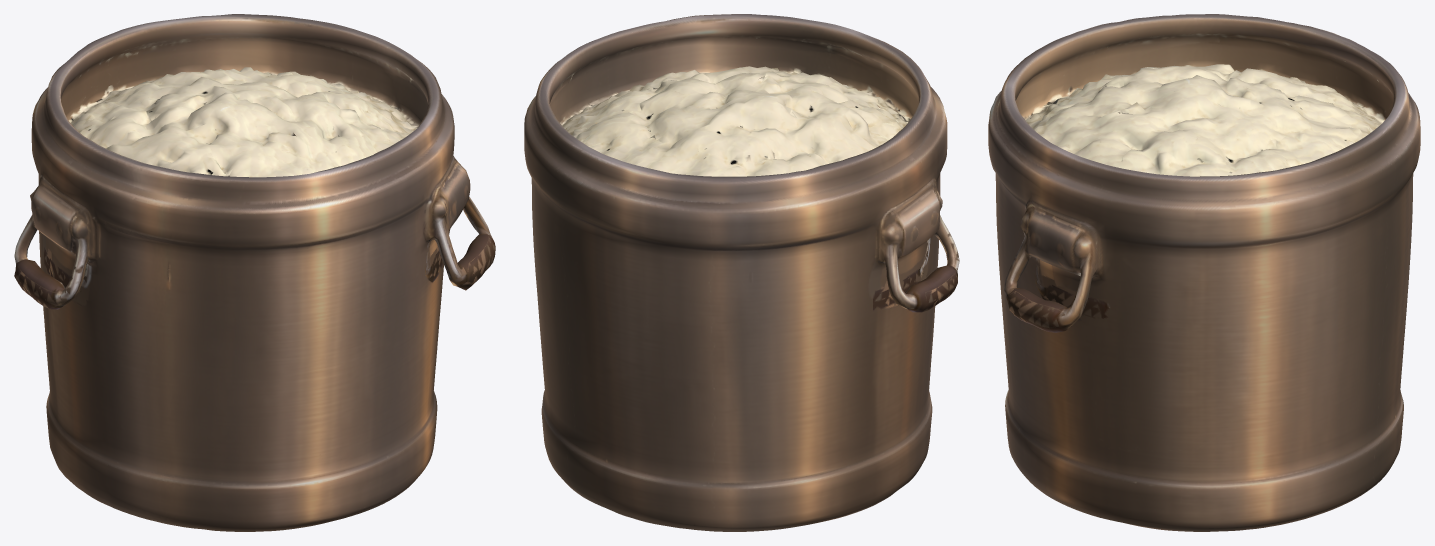
File: RiceBucketAI.fbx
The picture shows the model from 3 angles, left to right: view 1: azimuth 30°, elevation 25°; view 2: azimuth 150°, elevation 25°; view 3: azimuth 270°, elevation 25°; orthographic projection.
Parts seen in each view (by area): view 1: Retopo_Mesh.001; view 2: Retopo_Mesh.001; view 3: Retopo_Mesh.001.
Boxes of the visible parts, box(x1,y1,x2,y2) form: Retopo_Mesh.001: box(14, 14, 495, 531); Retopo_Mesh.001: box(524, 14, 959, 531); Retopo_Mesh.001: box(988, 14, 1420, 531).
Bounding box in the file's own units: 1 × 0.8714 × 0.9421.
